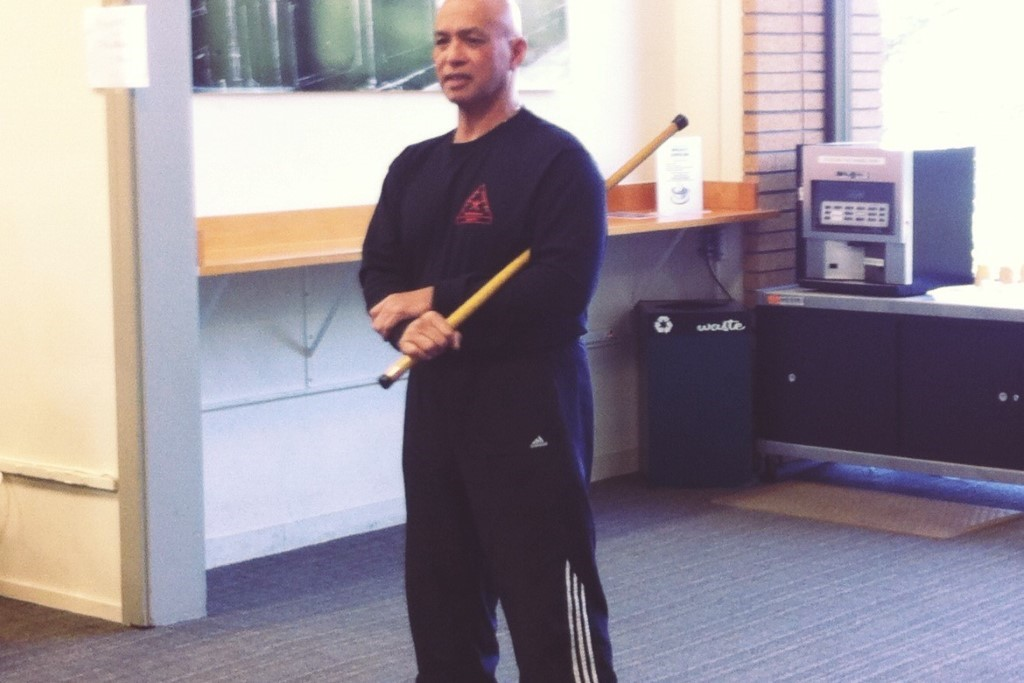baston_e: (395, 121, 675, 379)
baston_v: (376, 365, 397, 394), (670, 109, 689, 132)
